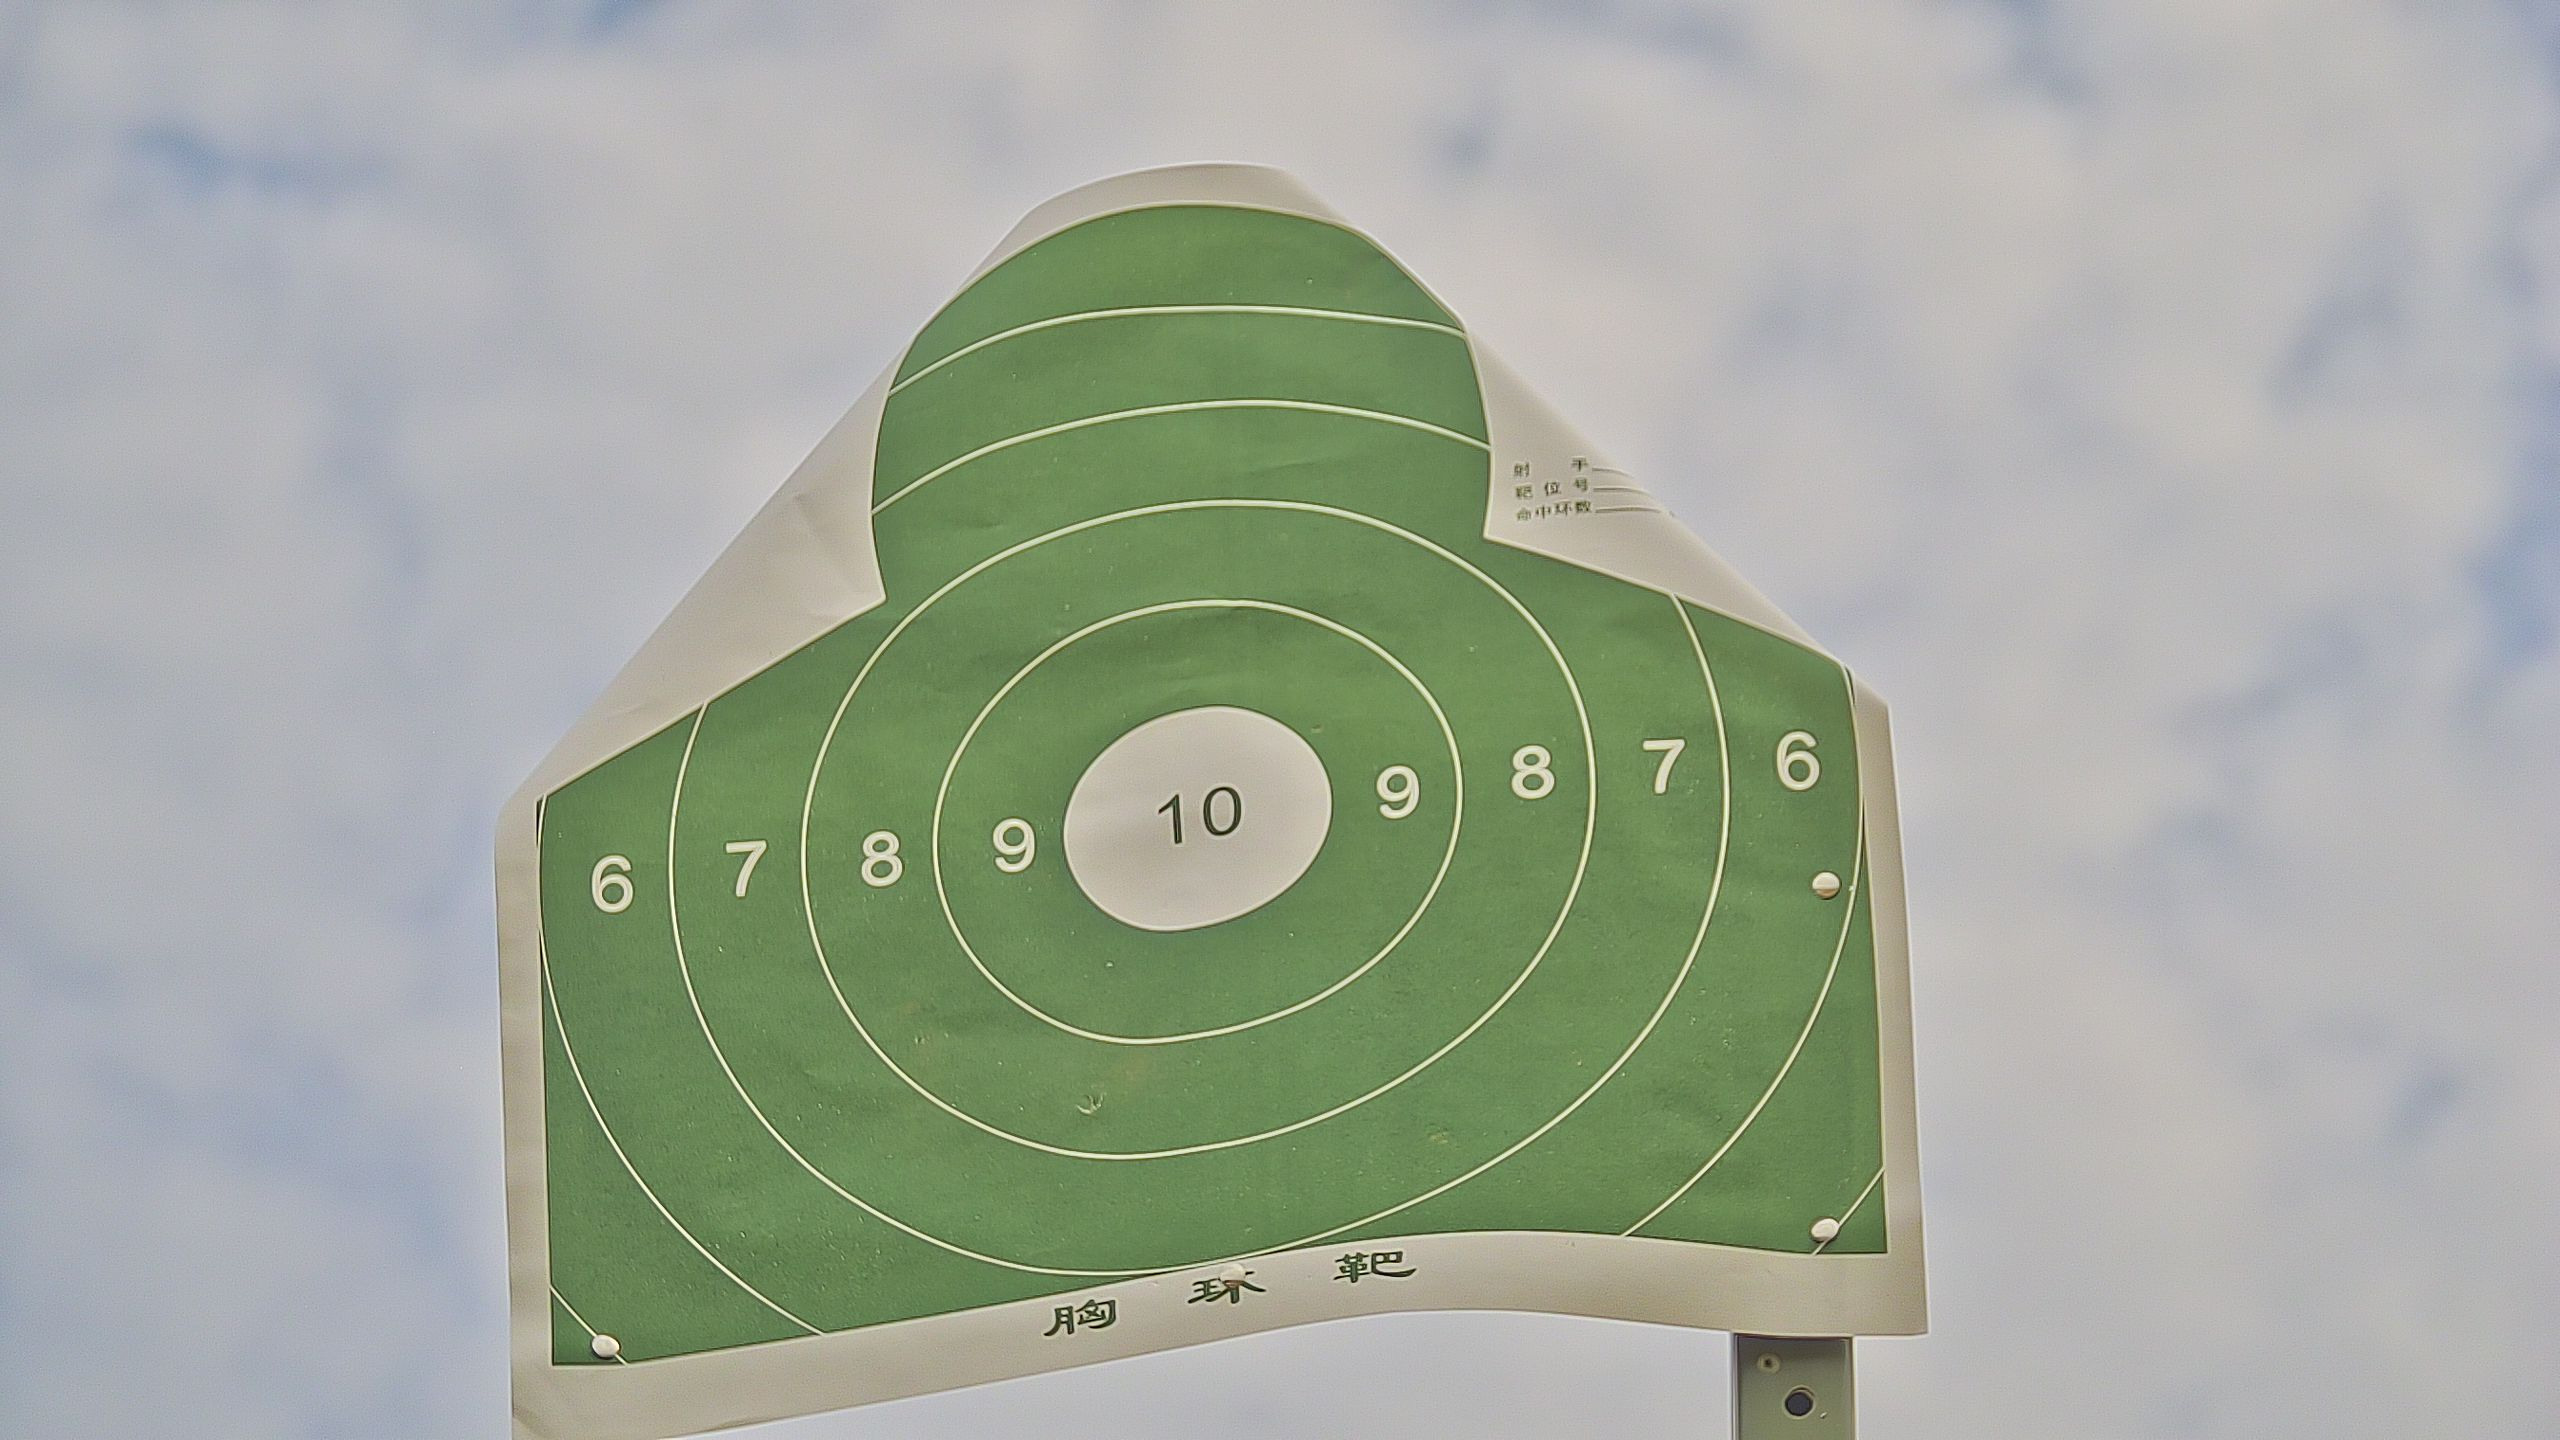target: (529, 207, 1895, 1371)
ten: (1060, 703, 1333, 935)
